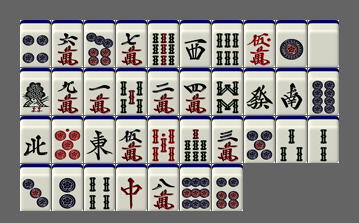0m: (244, 20, 275, 67)
0p: (52, 116, 83, 163)
0s: (148, 116, 179, 163)
1m: (84, 68, 115, 115)
1p: (276, 20, 307, 67)
1s: (20, 68, 51, 115)
1z: (84, 116, 115, 163)
2m: (148, 68, 179, 115)
2p: (52, 164, 83, 211)
2s: (308, 116, 339, 163)
2z: (276, 68, 307, 115)
3m: (212, 116, 243, 163)
3p: (20, 164, 51, 211)
3s: (276, 116, 307, 163)
3z: (180, 20, 211, 67)
4m: (180, 68, 211, 115)
4p: (20, 20, 51, 67)
4s: (84, 164, 115, 211)
4z: (20, 116, 51, 163)
5m: (116, 116, 147, 163)
5p: (244, 116, 275, 163)
5s: (116, 68, 147, 115)
5z: (308, 20, 339, 67)
6m: (52, 20, 83, 67)
6p: (212, 164, 243, 211)
6s: (212, 20, 243, 67)
6z: (244, 68, 275, 115)
7m: (116, 20, 147, 67)
7p: (84, 20, 115, 67)
7s: (180, 116, 211, 163)
7z: (116, 164, 147, 211)
8m: (148, 164, 179, 211)
8p: (308, 68, 339, 115)
8s: (212, 68, 243, 115)
9m: (52, 68, 83, 115)
9p: (180, 164, 211, 211)
9s: (148, 20, 179, 67)
